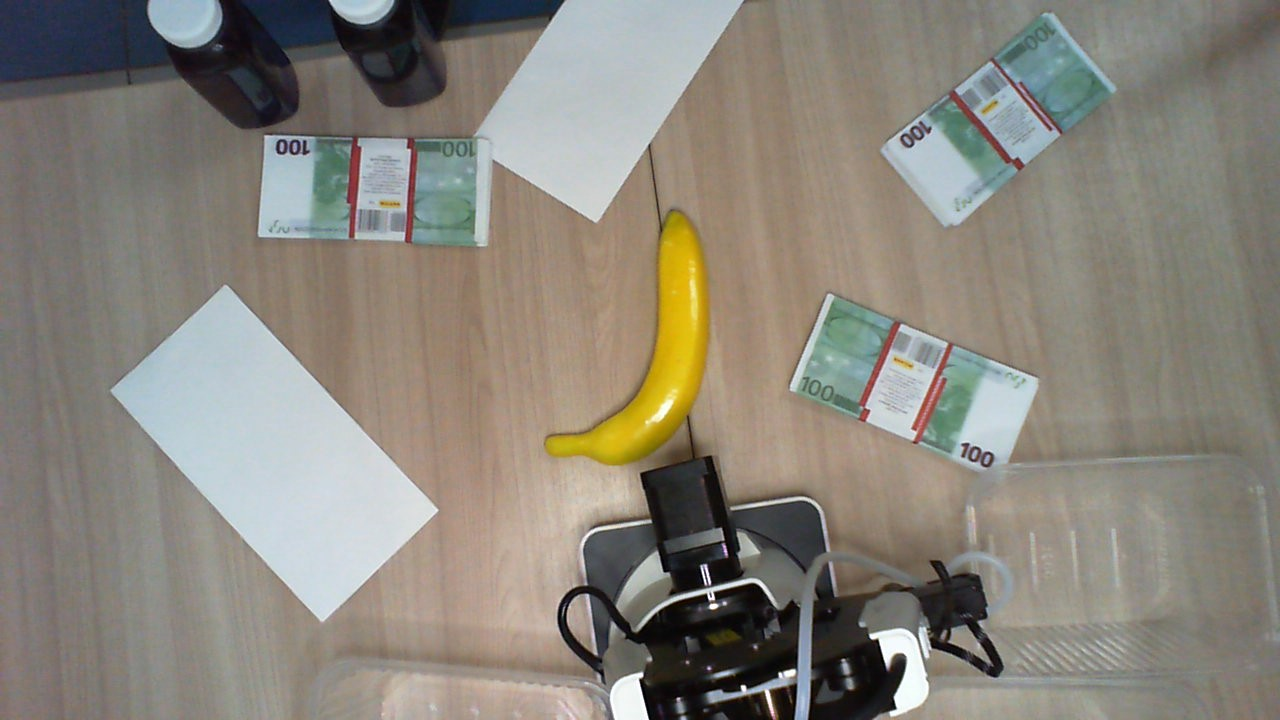banana: (543, 210, 713, 466)
bottle: (145, 1, 241, 76), (328, 1, 413, 42)
convert: (111, 285, 444, 625), (471, 1, 747, 224)
money: (883, 9, 1116, 229), (790, 290, 1038, 473), (257, 140, 493, 247)
